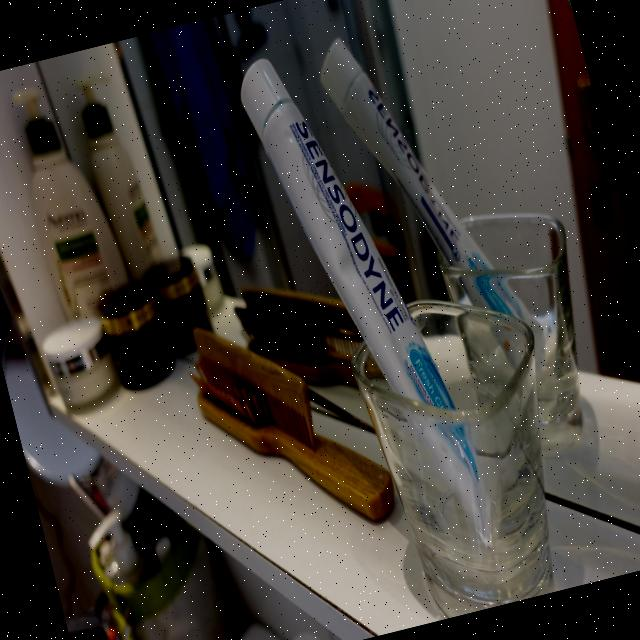Toothpaste: (229, 26, 499, 538)
